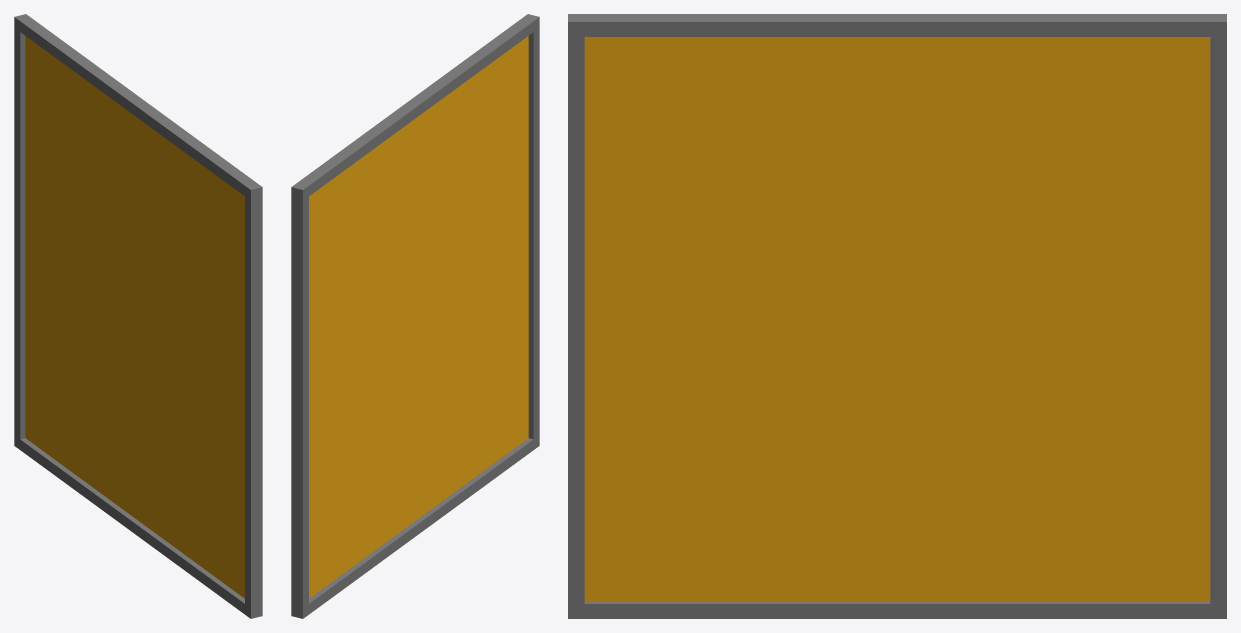
File: SM_BlockGlass4m.FBX
3 renders of one model, left to right at view 1: azimuth 30°, elevation 25°; view 2: azimuth 150°, elevation 25°; view 3: azimuth 270°, elevation 25°, orthographic. The views are drawn at different scales.
Parts seen in each view (by area): view 1: SM_BlockGlass4m; view 2: SM_BlockGlass4m; view 3: SM_BlockGlass4m.
Part boxes in pixels (x1,y1,x2,y2): SM_BlockGlass4m: [14, 14, 262, 618]; SM_BlockGlass4m: [291, 14, 539, 618]; SM_BlockGlass4m: [568, 14, 1226, 618].
Bounding box in the file's own units: 11.55 × 400 × 400.
